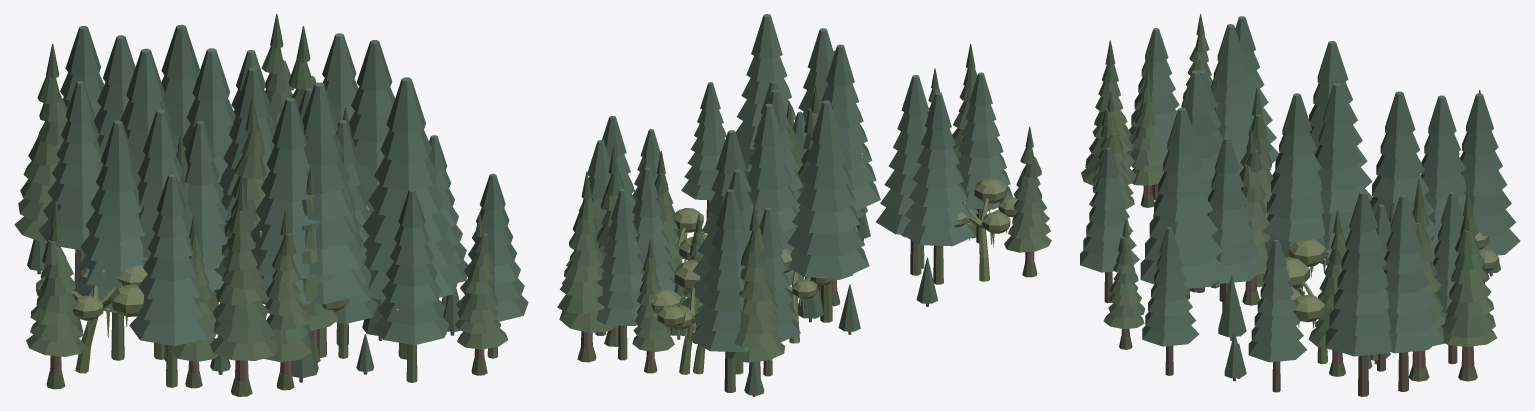
File: Mist_Forest_1_0.fbx
3 renders of one model, left to right at view 1: azimuth 30°, elevation 25°; view 2: azimuth 150°, elevation 25°; view 3: azimuth 270°, elevation 25°, orthographic. The views are drawn at different scales.
Visible parts, largest first — view 1: Mist_Forest_1_0; view 2: Mist_Forest_1_0; view 3: Mist_Forest_1_0.
Boxes of the visible parts, box(x1,y1,x2,y2) form: Mist_Forest_1_0: box(14, 14, 528, 396); Mist_Forest_1_0: box(557, 14, 1051, 396); Mist_Forest_1_0: box(1080, 14, 1520, 396).
Size of the model in its own units: 44.8 by 28.28 by 43.47.
